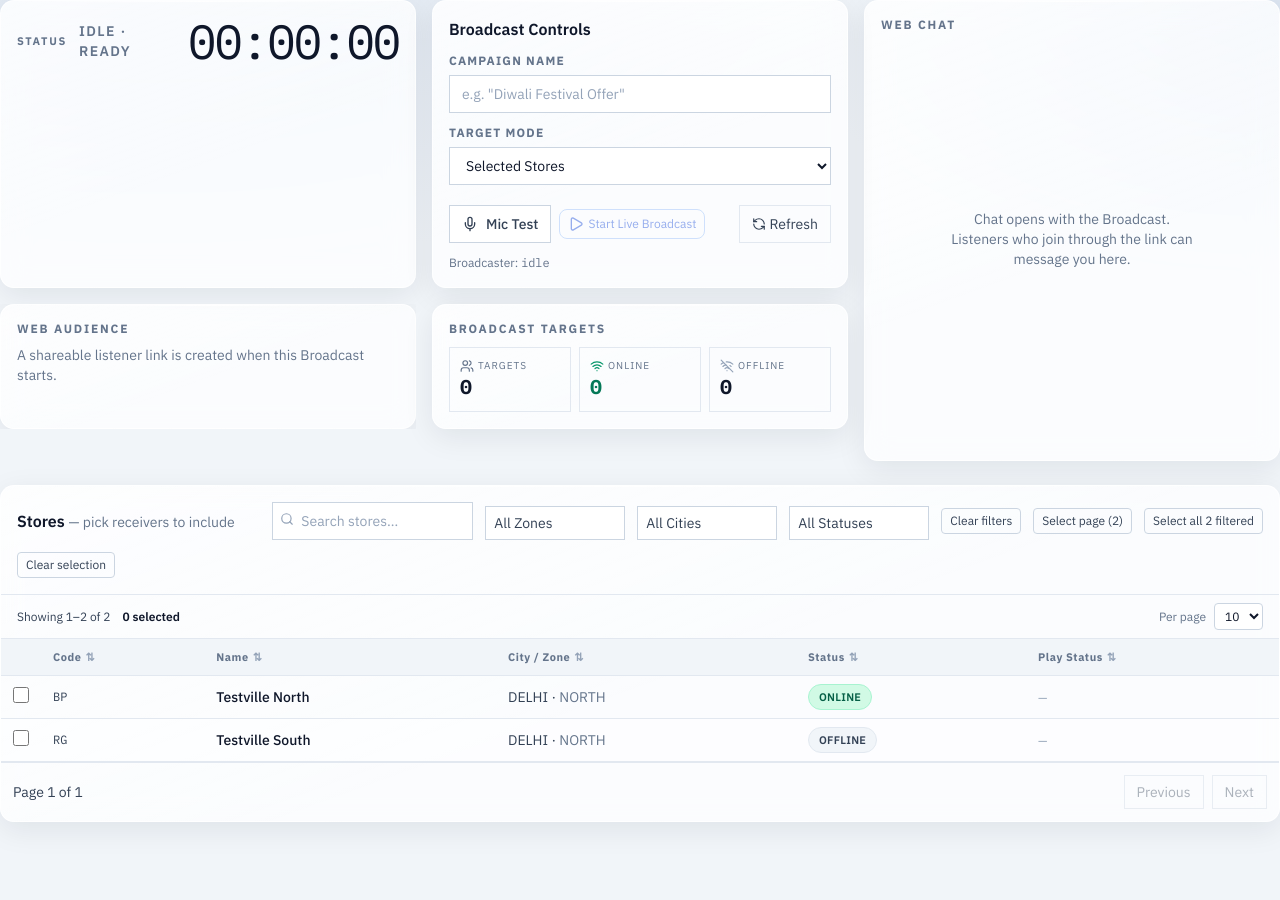
region options come from the scoped target response
The image size is (1280, 900).
Select "By Zone" in the dropdown with test id "target-mode-select": {"x": 640, "y": 166} [449,147,831,185]
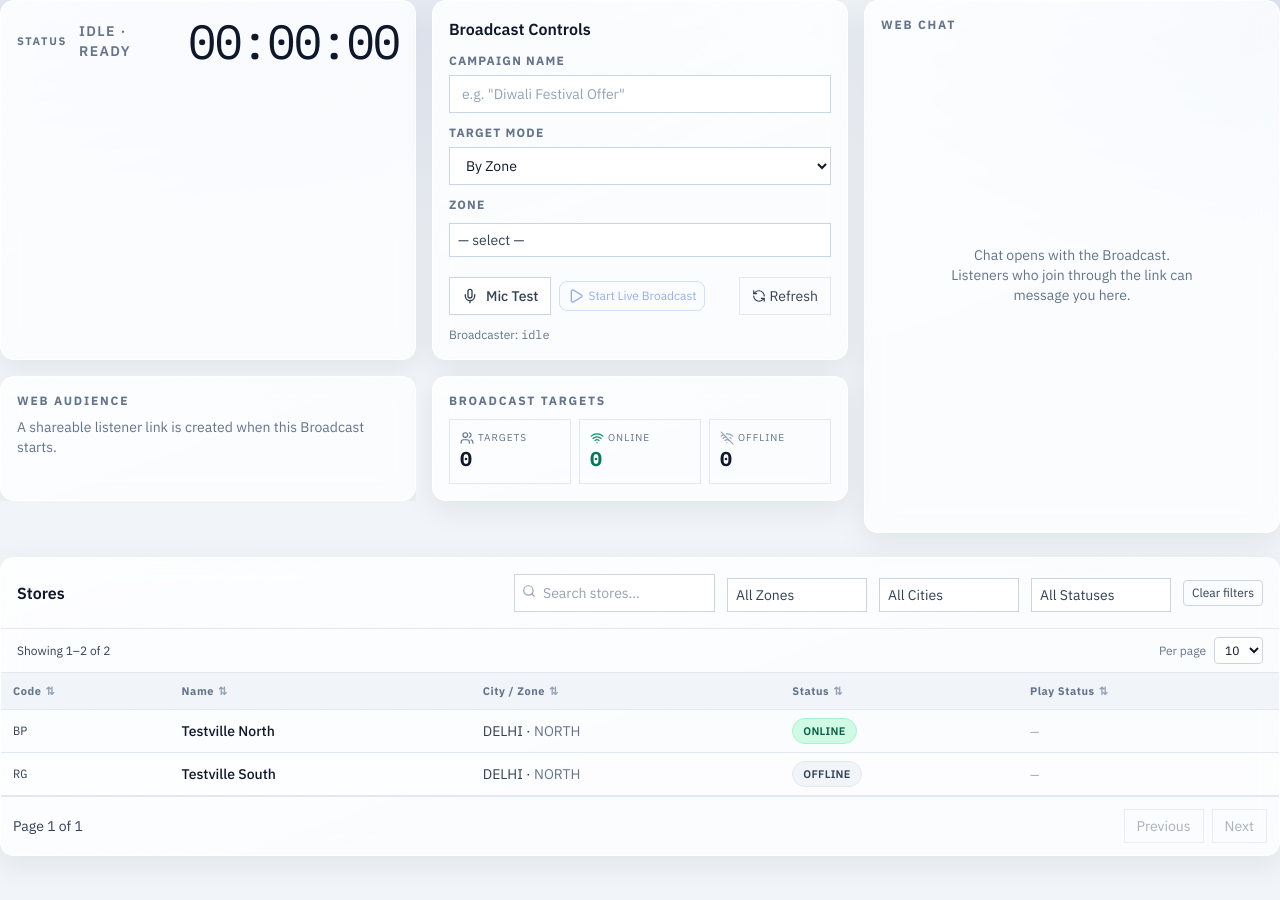
Click the button with test id "region-select": {"x": 491, "y": 240} [449,223,831,257]
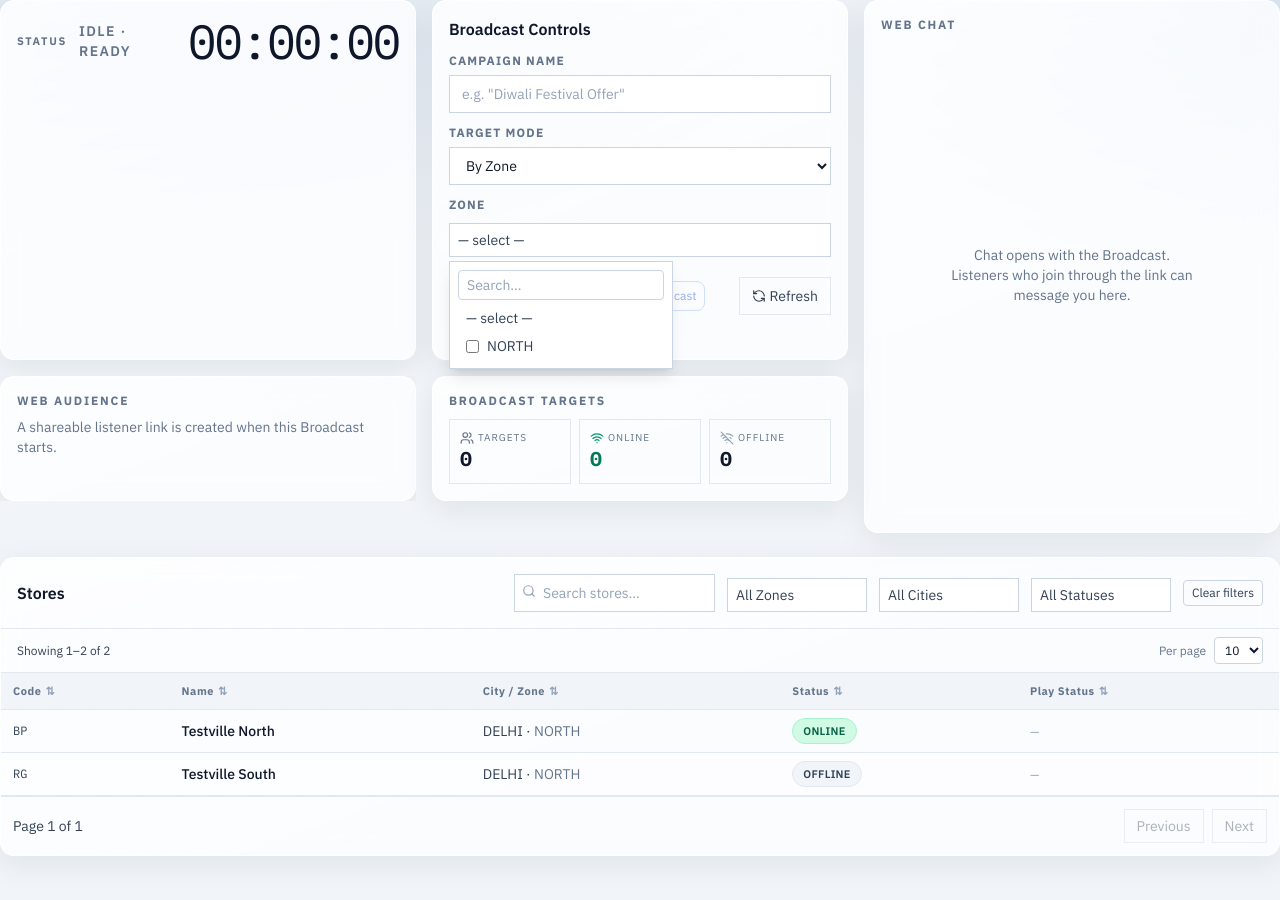
Expected: the checkbox with test id "region-select-option-NORTH" is shown, [466,340,479,352]
